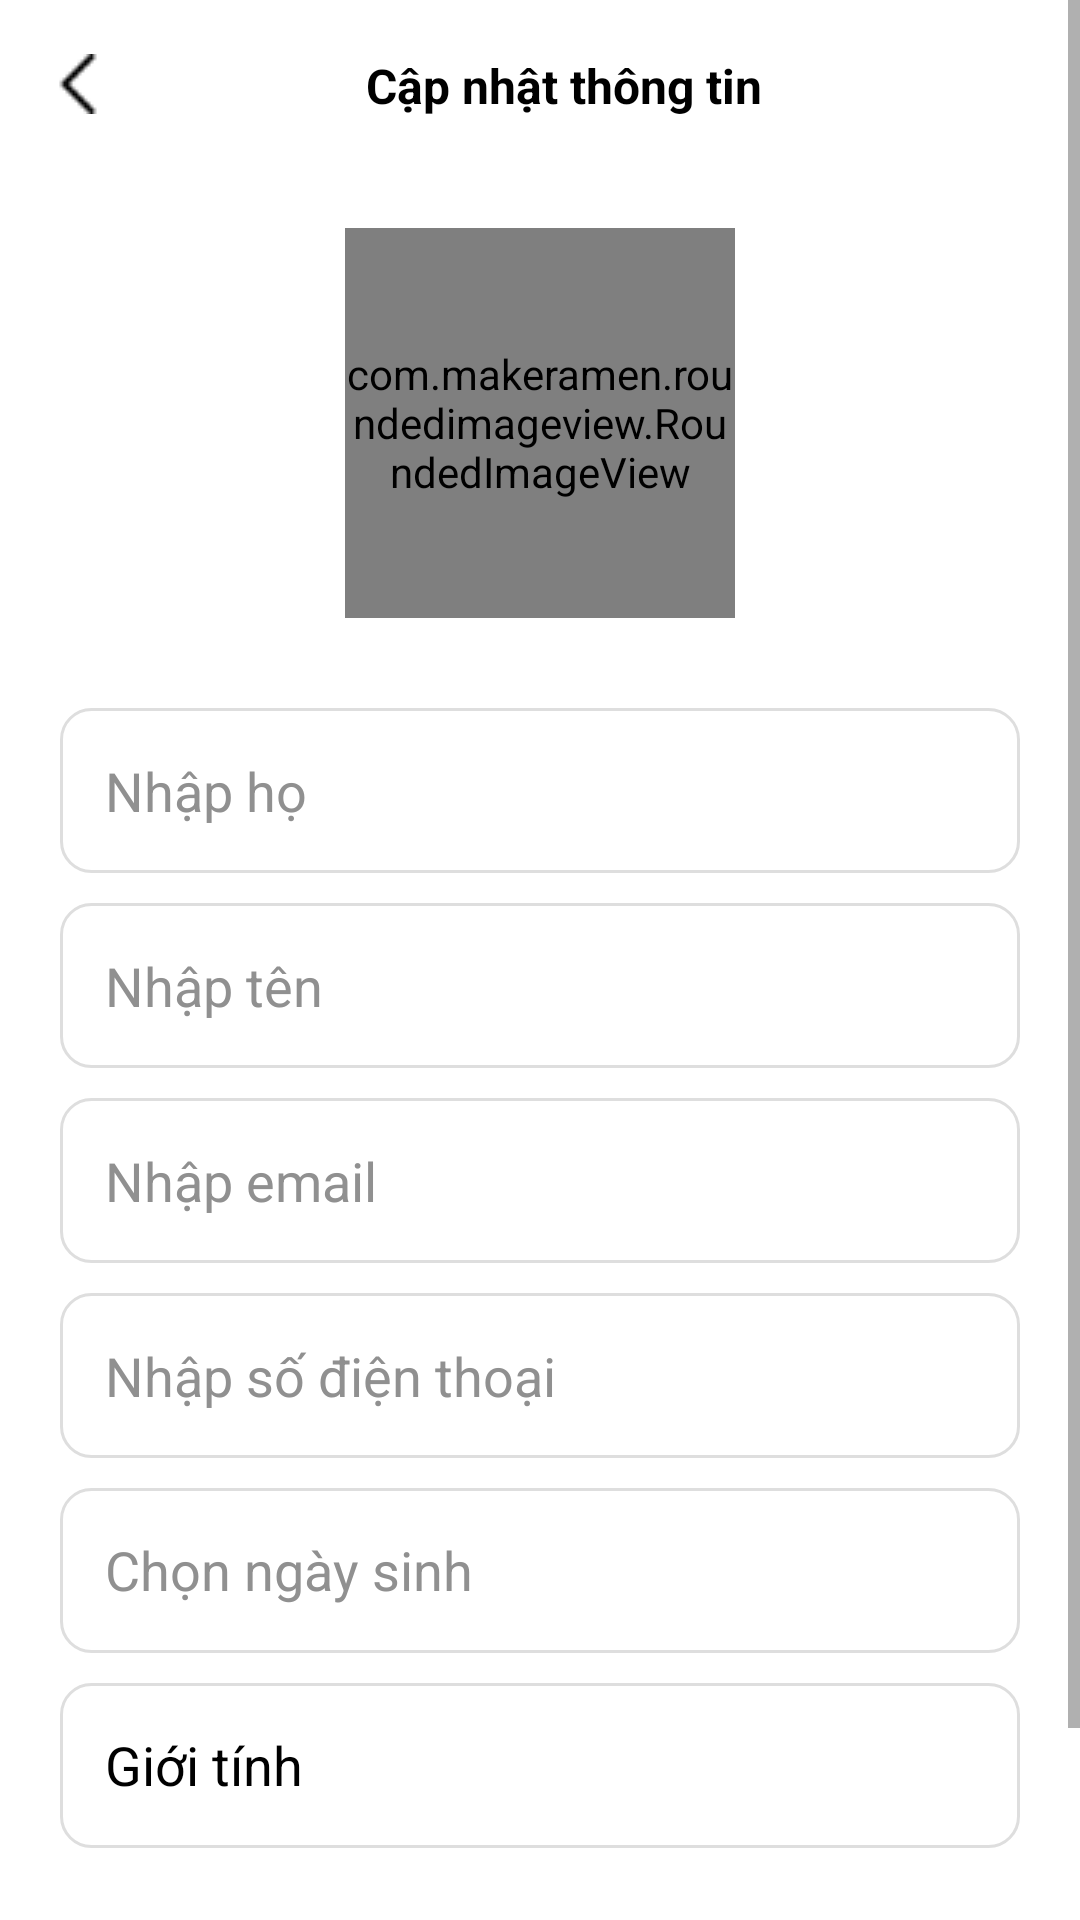

Screen size 1080px x 1920px. Icon name, then its box in pixels as [left=x1, top=y1, right=x2, bottom=y2]:
back button: [left=59, top=54, right=97, bottom=114]
